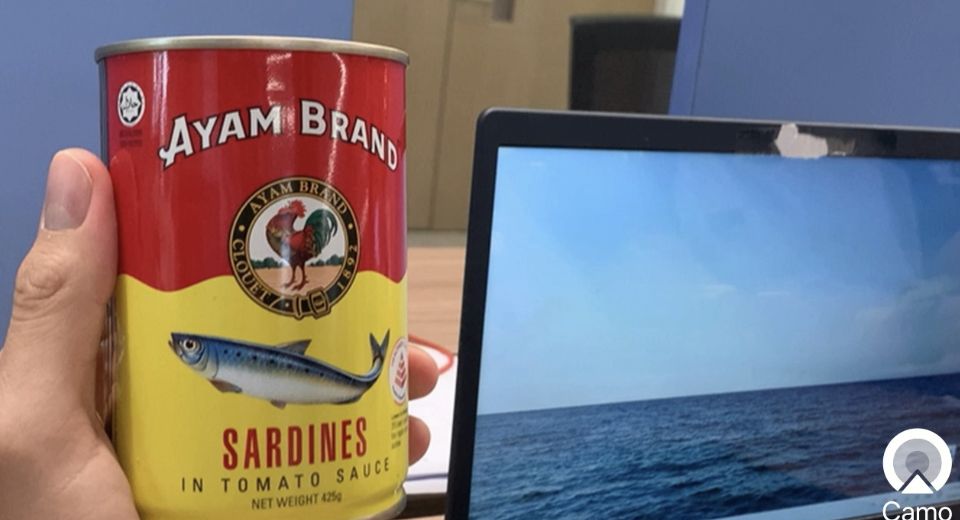sardines_450g: (112, 49, 408, 508)
